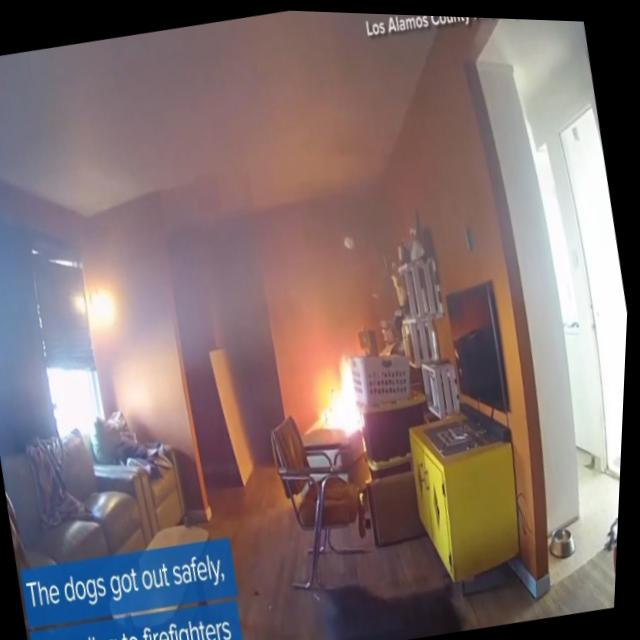fire: (306, 343, 372, 438)
